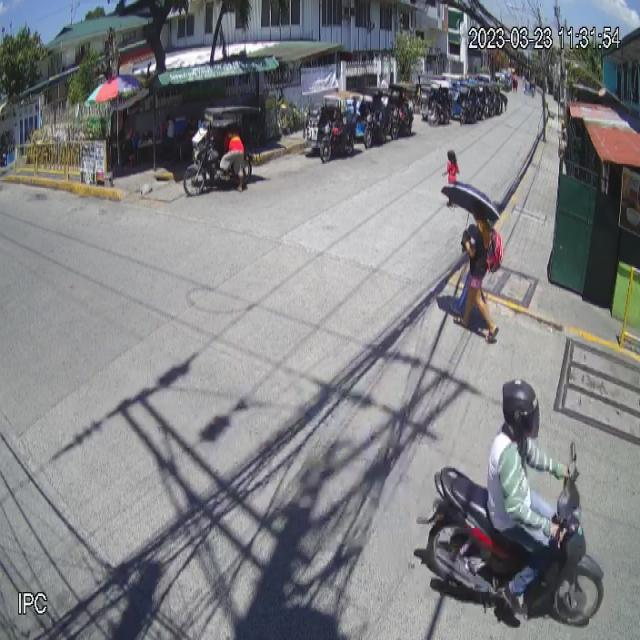Motorcycle: (413, 438, 606, 628)
Tricycle: (182, 100, 261, 200)
